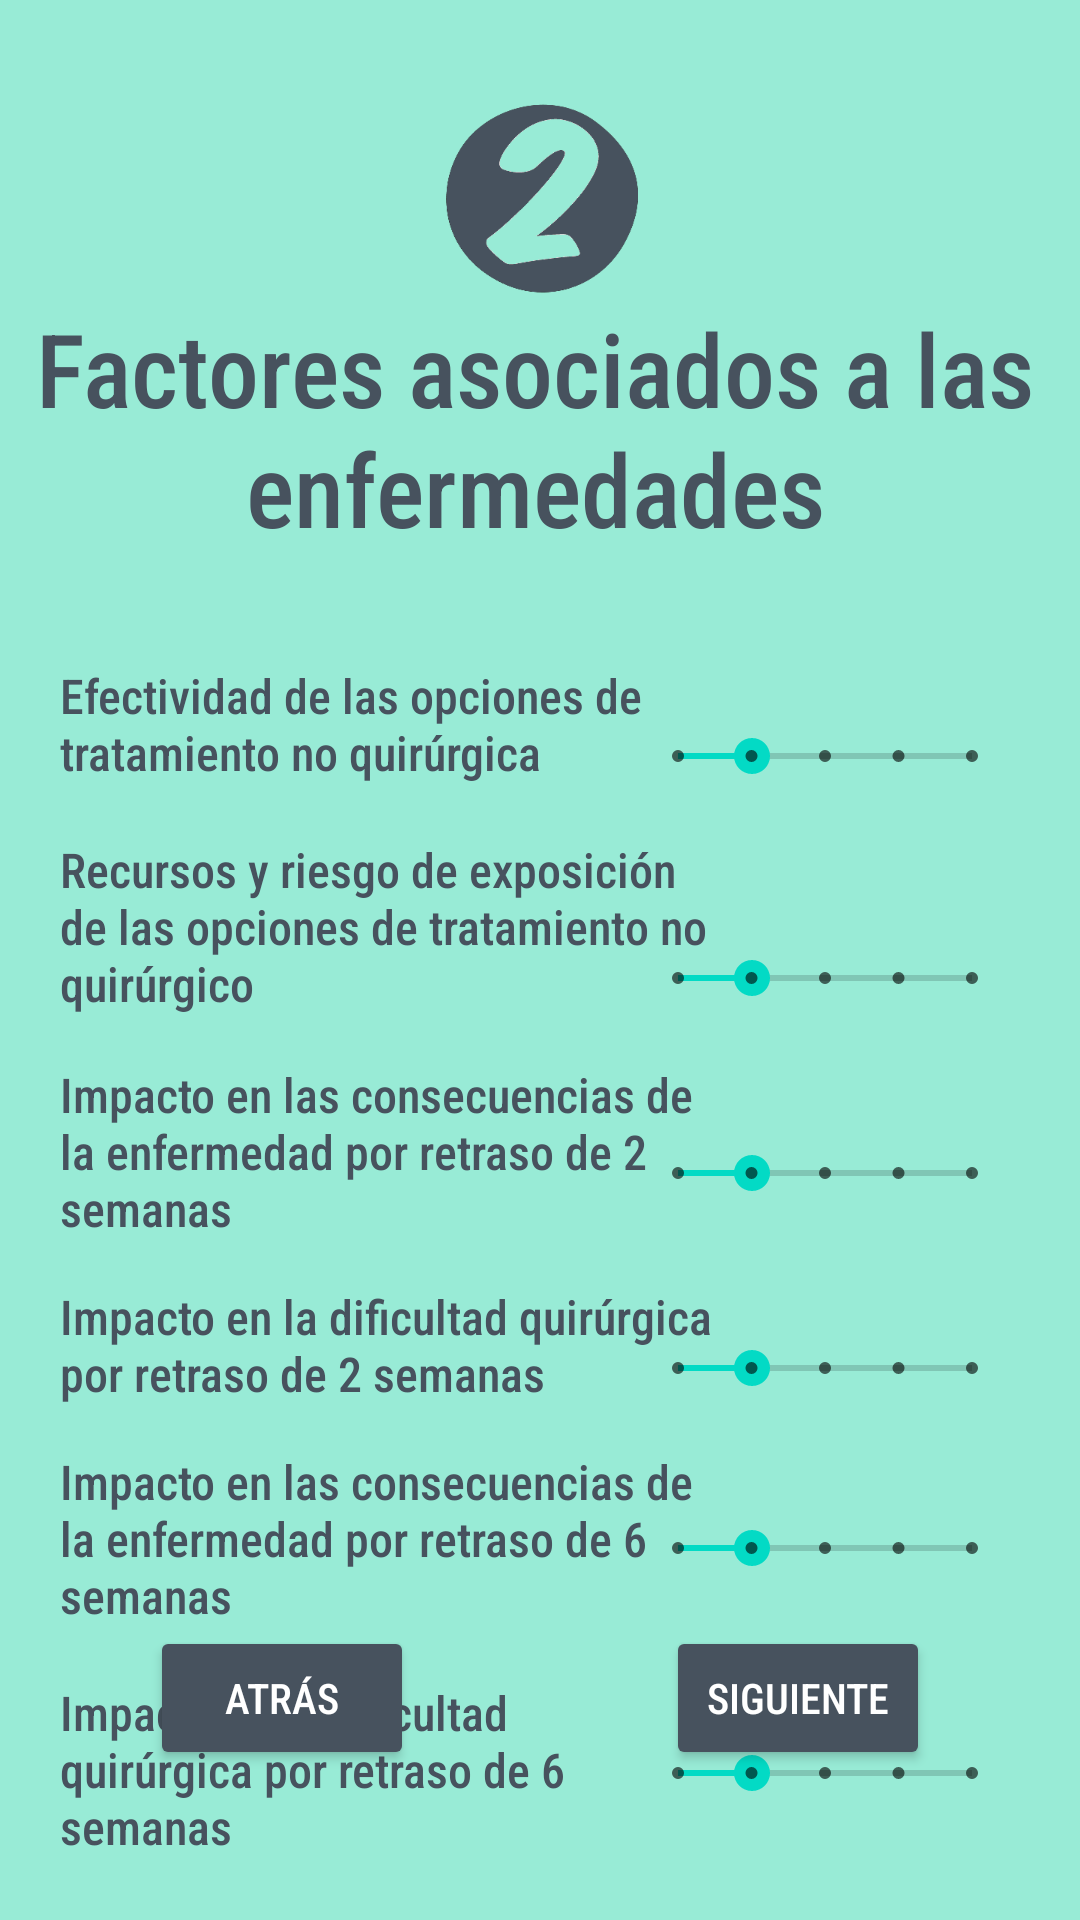

Where to tap for icons on this 1080 x 1920 app screen, as (x=x, y=y):
numero: (x=542, y=198)
